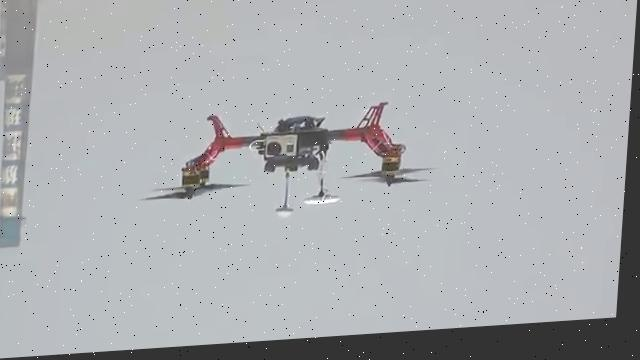drone: (137, 103, 449, 234)
